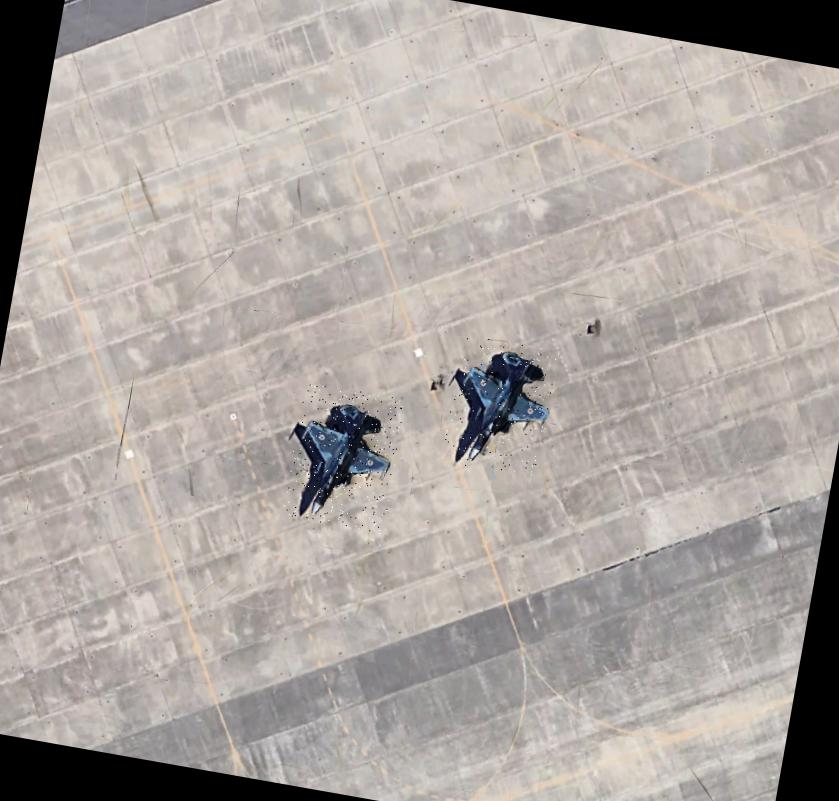A5: (281, 380, 406, 534), (441, 334, 559, 478)
